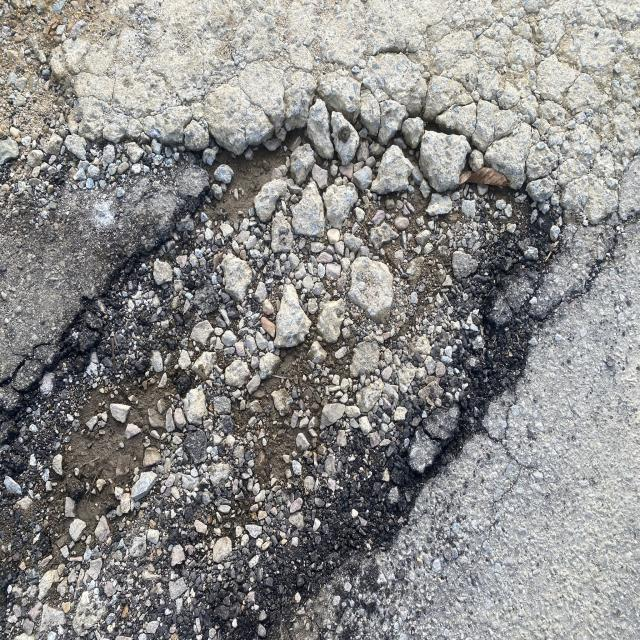pothole: (72, 86, 624, 488)
